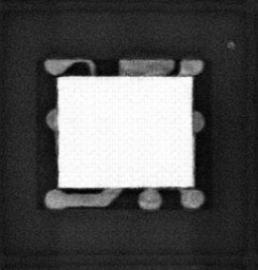DIE_INK: (226, 39, 237, 48)
